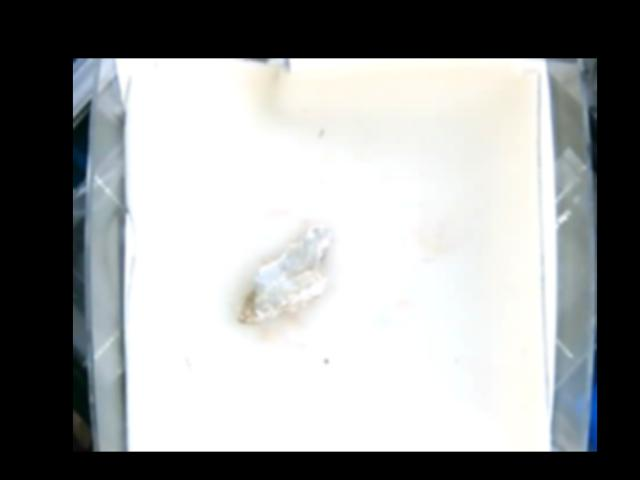Brisk: (239, 227, 329, 323)
